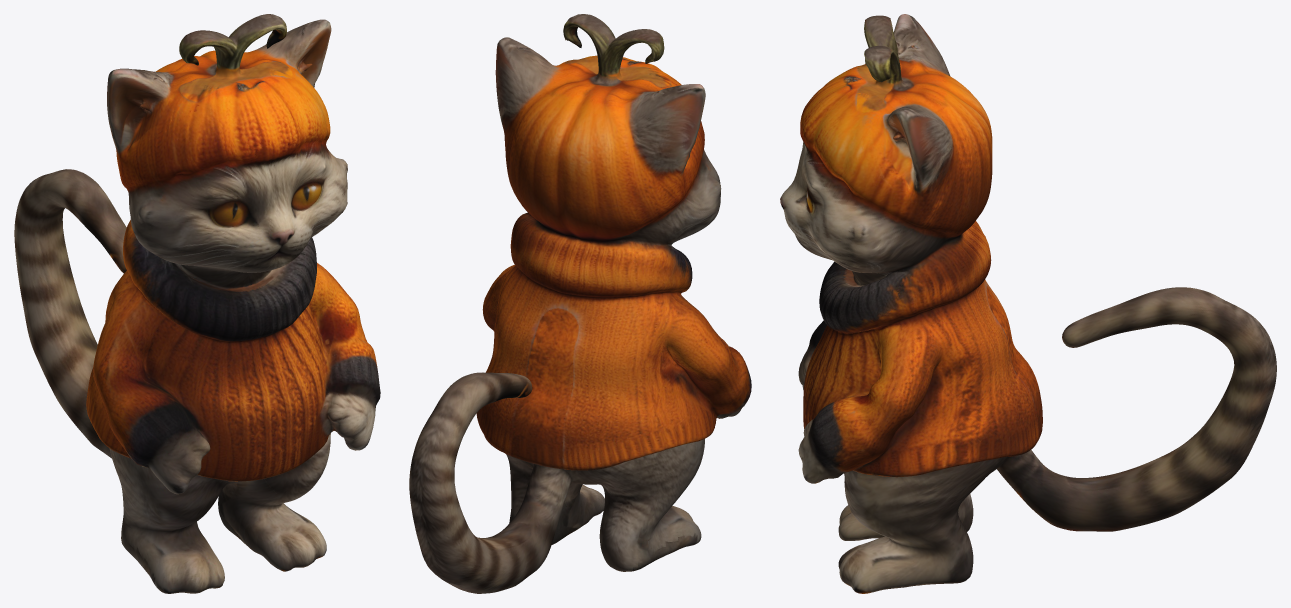
The model's file is orange_cat_with_pumpkin_outfit.glb.
3 renders of one model, left to right at view 1: azimuth 30°, elevation 25°; view 2: azimuth 150°, elevation 25°; view 3: azimuth 270°, elevation 25°, orthographic. The views are drawn at different scales.
Bounding box in the file's own units: 1 × 2 × 1.72.
1 material, 1 textured.
